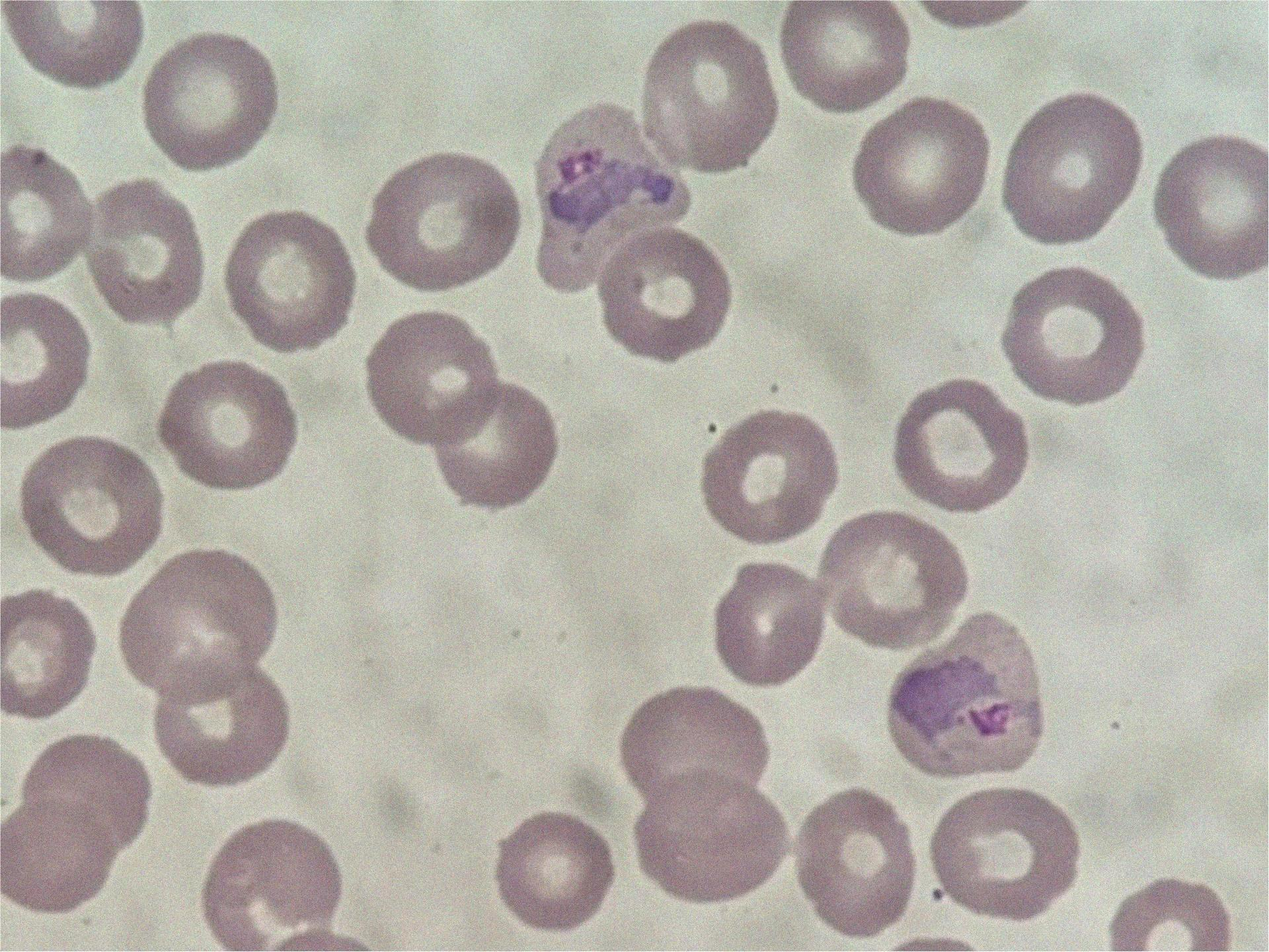Infected: (583, 660, 736, 846), (228, 172, 382, 340)
Uninfected: (991, 249, 1147, 399), (128, 708, 268, 856), (301, 302, 449, 440), (749, 662, 898, 797), (491, 781, 627, 926), (126, 545, 266, 683), (1108, 376, 1248, 514), (192, 33, 333, 167), (487, 52, 633, 181), (922, 2, 1065, 132), (538, 588, 672, 725), (355, 17, 477, 167), (430, 409, 565, 541), (240, 440, 375, 572), (991, 782, 1126, 914), (972, 461, 1110, 590), (278, 718, 410, 852), (766, 508, 903, 637), (913, 602, 1042, 738), (1064, 626, 1184, 770), (1119, 93, 1248, 217), (500, 155, 645, 264), (710, 442, 837, 566), (1, 674, 113, 813), (981, 164, 1114, 278), (654, 20, 774, 138), (358, 841, 485, 951), (443, 266, 557, 388), (1158, 40, 1269, 154), (1174, 232, 1268, 358), (1179, 670, 1268, 799), (1128, 865, 1264, 949), (1180, 524, 1266, 656)
